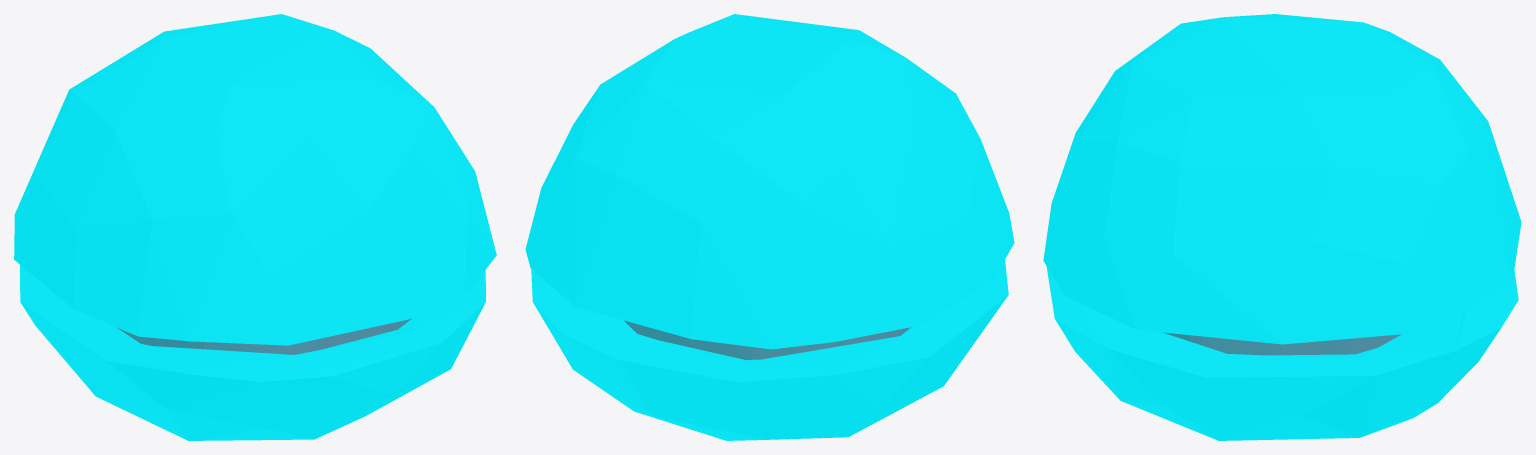
The model's file is power_pill_trap.glb.
3 views of the same model, side by side, from view 1: azimuth 30°, elevation 25°; view 2: azimuth 150°, elevation 25°; view 3: azimuth 270°, elevation 25° (orthographic). The views are drawn at different scales.
Parts seen in each view (by area): view 1: power_pill_trap_BAKED; view 2: power_pill_trap_BAKED; view 3: power_pill_trap_BAKED.
Boxes of the visible parts, box(x1,y1,x2,y2) form: power_pill_trap_BAKED: box(14, 14, 496, 440); power_pill_trap_BAKED: box(525, 14, 1014, 440); power_pill_trap_BAKED: box(1043, 14, 1521, 440).
Bounding box in the file's own units: 2.33 × 1.92 × 2.3.
